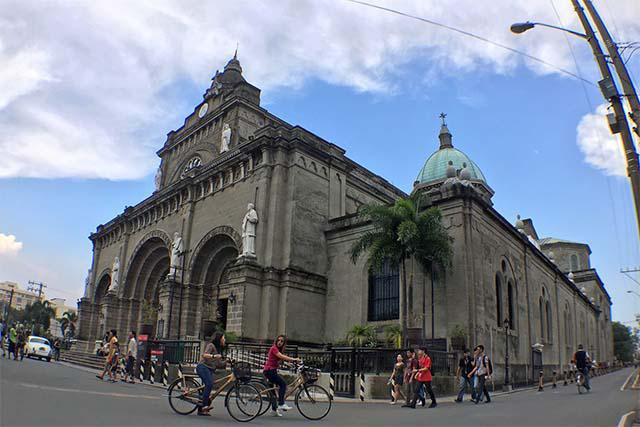manila_cathedral_church_intramuros_manila: (81, 35, 342, 375)
